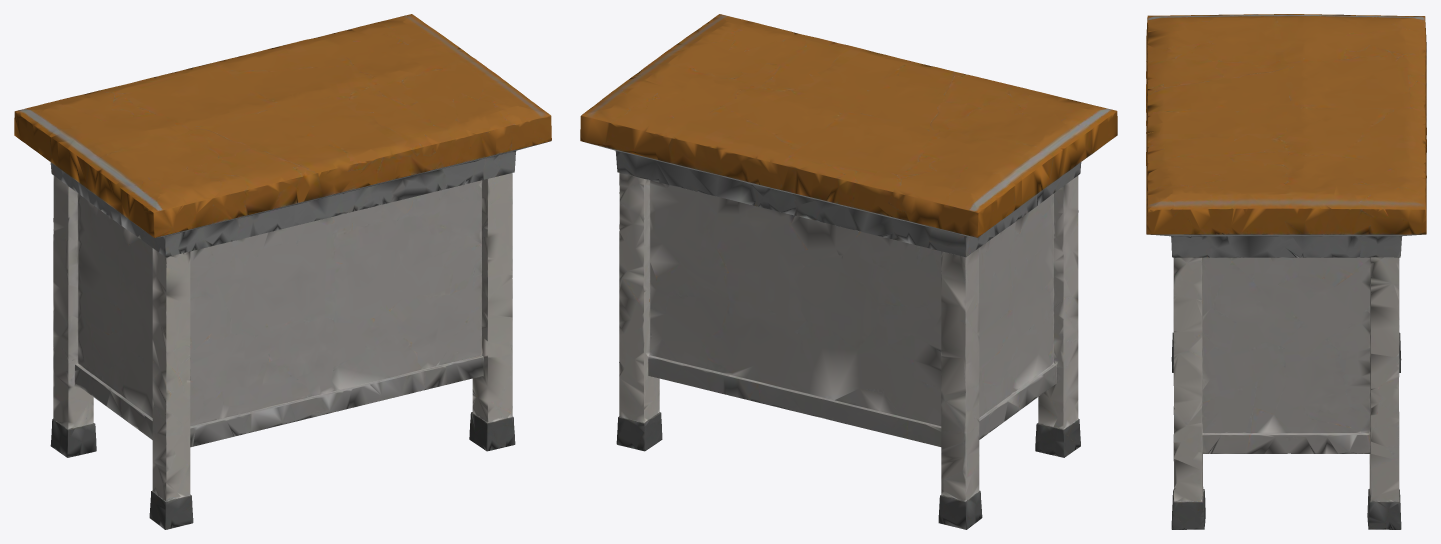
Rendered from lectern.glb.
3 views of the same model, side by side, from view 1: azimuth 30°, elevation 25°; view 2: azimuth 150°, elevation 25°; view 3: azimuth 270°, elevation 25° (orthographic).
Bounding box in the file's own units: 1.9 × 1.55 × 1.16.
Materials: 1 (1 with a texture image).
